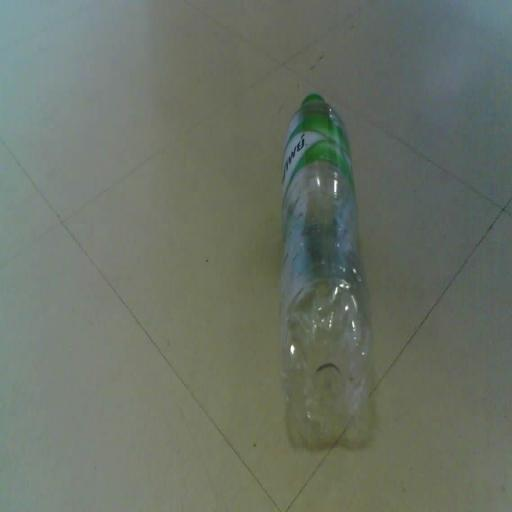bottle: (280, 90, 371, 452)
